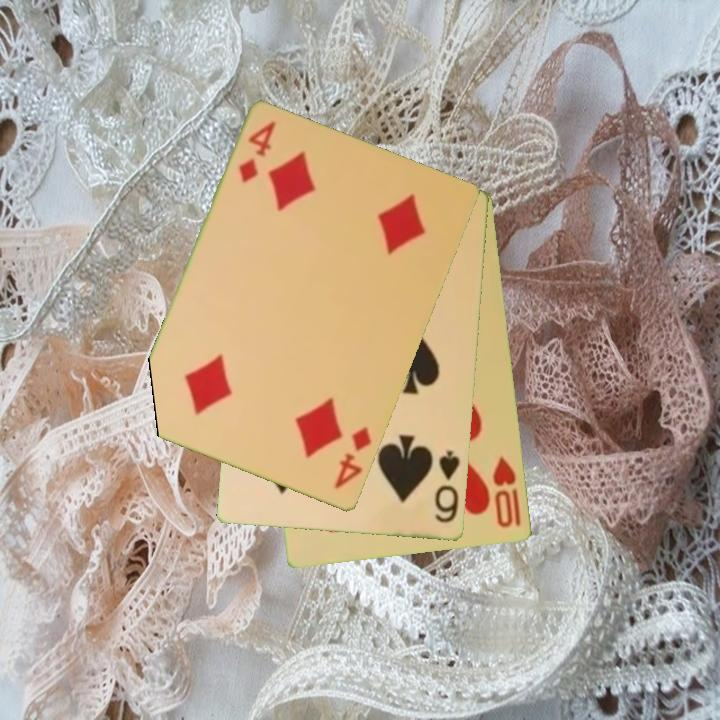10h: (490, 453, 524, 531)
4d: (331, 424, 375, 493), (235, 118, 279, 187)
6s: (432, 447, 463, 526)
